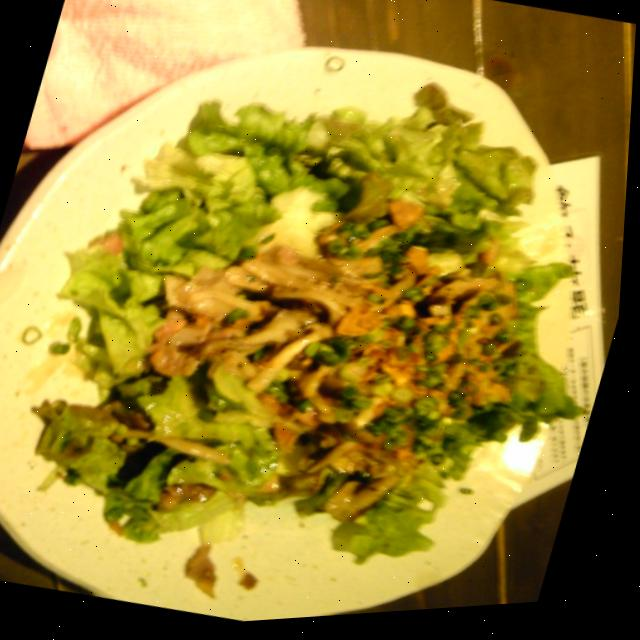蔬菜料理: (24, 31, 627, 626)
